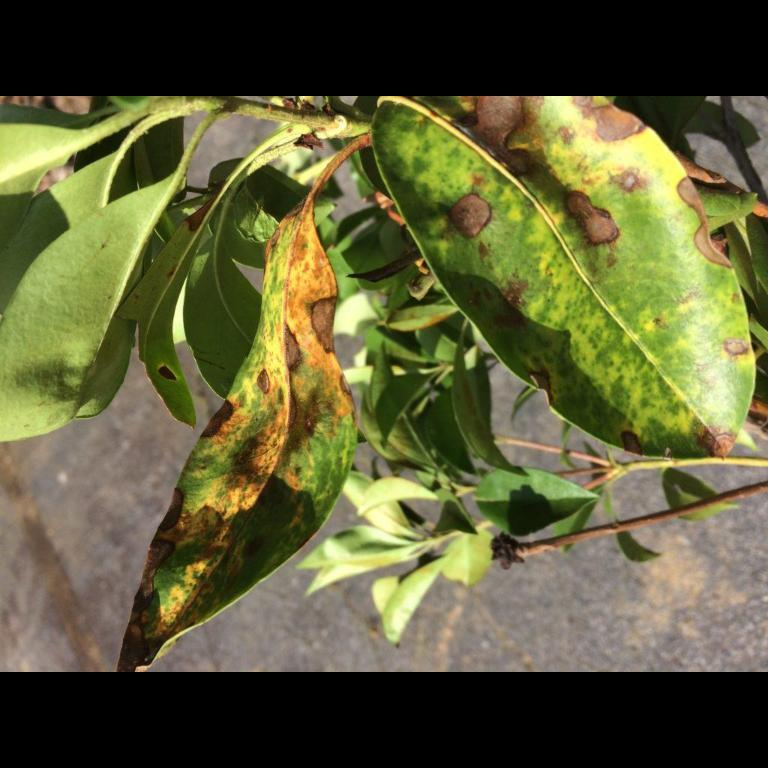blight: (454, 96, 634, 162)
